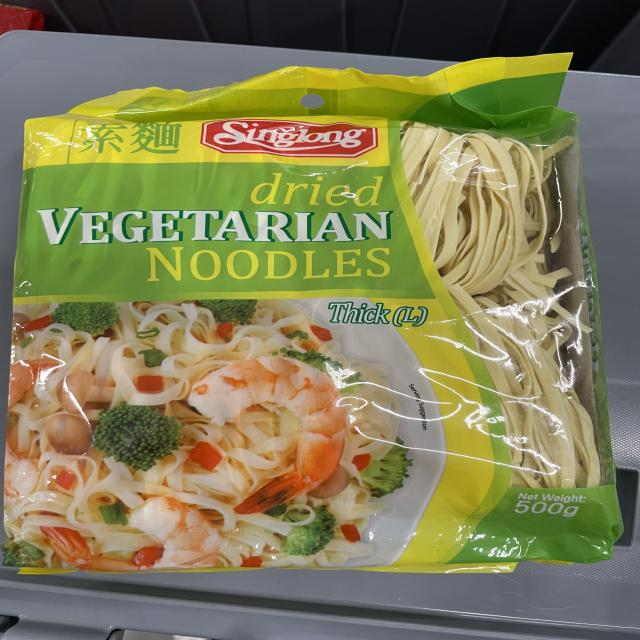object_name: (32, 98, 571, 565)
